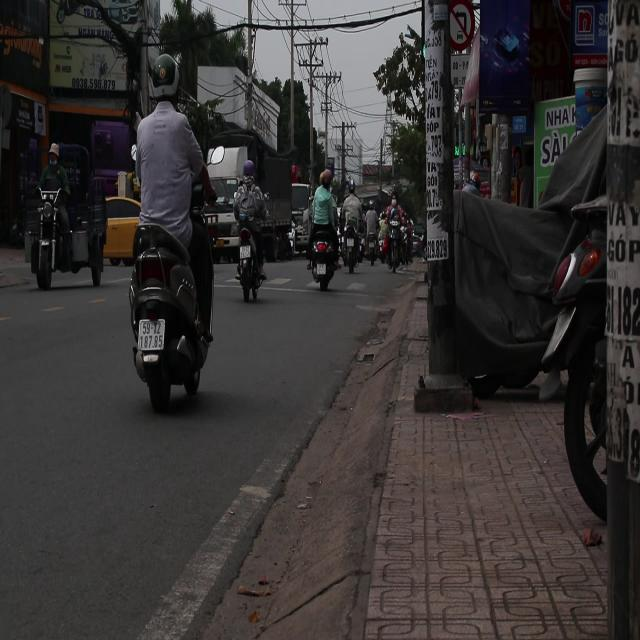motorbike: (124, 206, 213, 414), (234, 194, 269, 302), (305, 223, 340, 290), (341, 218, 367, 273)
truck: (290, 184, 311, 255)
